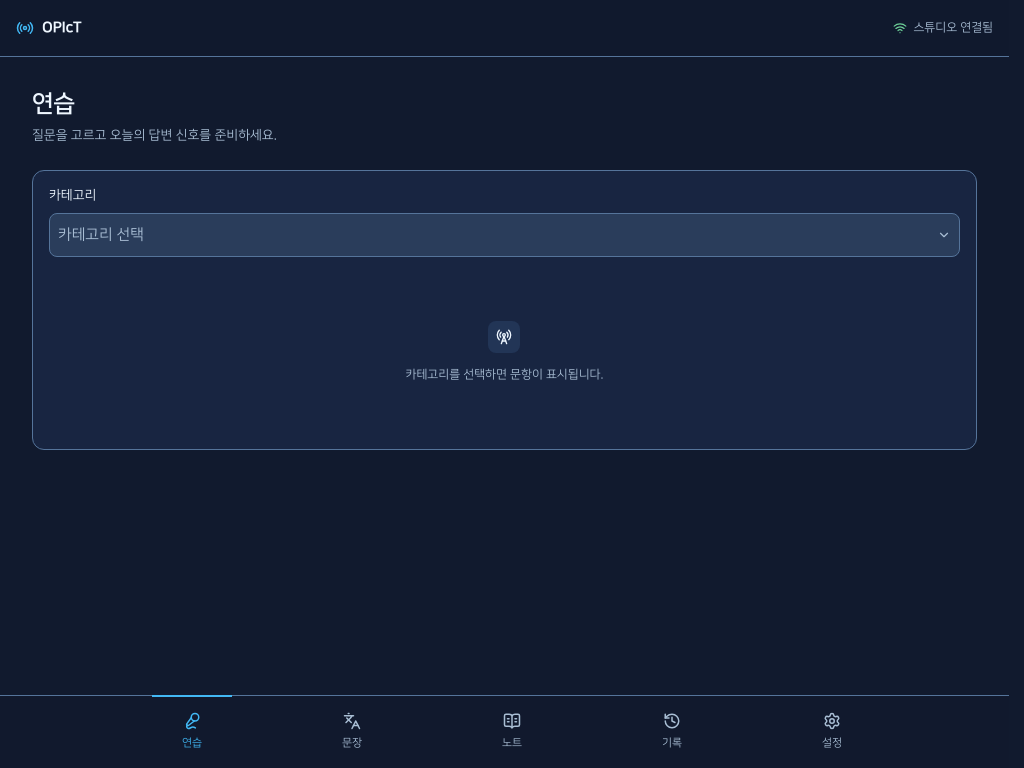
Test: App authentication gate › switches between the five primary trainer surfaces
Click the button "설정".
click(832, 732)  # box [752,696,912,767]
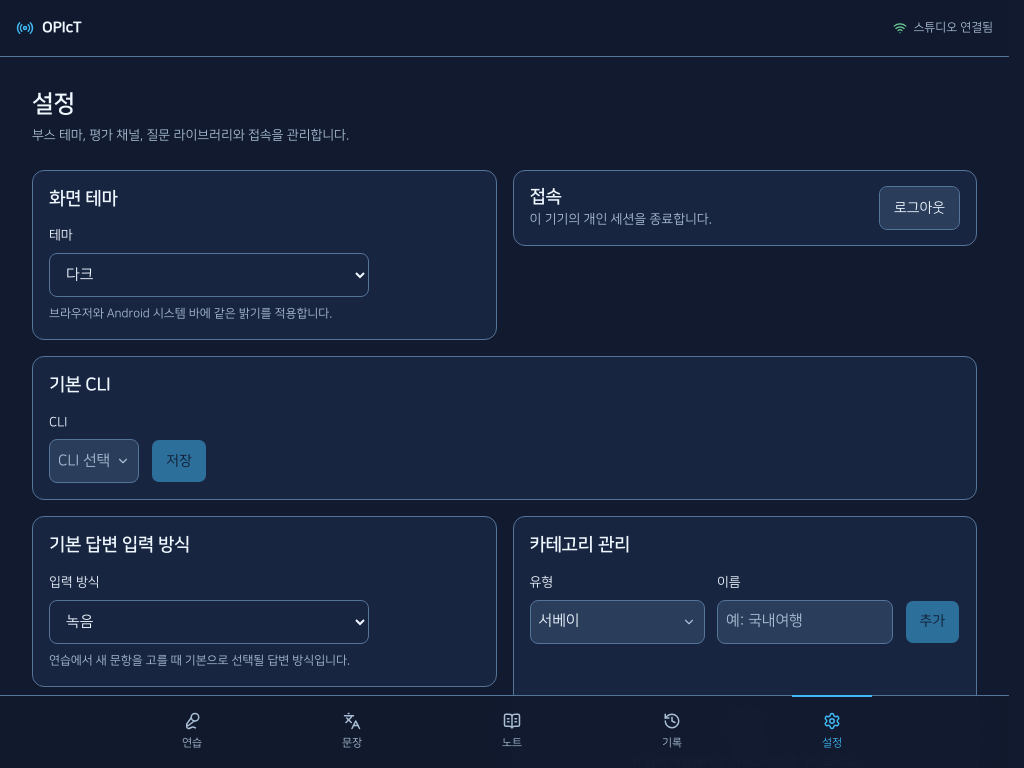
Expected: the heading "설정" is shown, [32,91,75,117]
